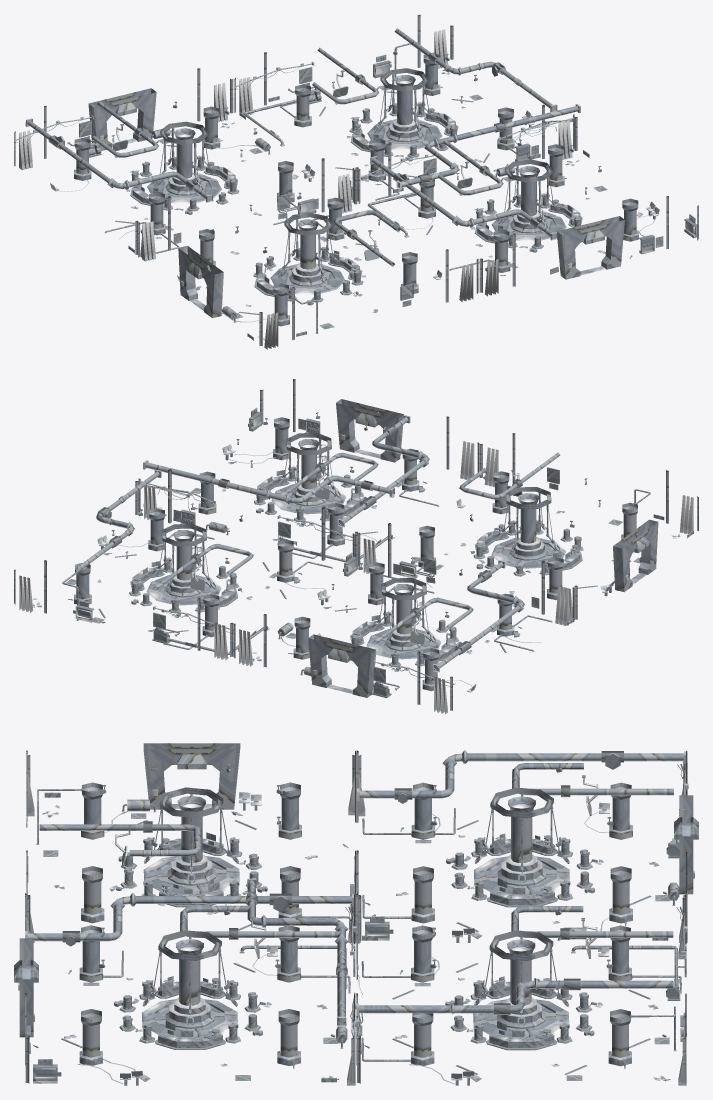
File: Combined_Mesh_root_scene__9_f65a131e__ZombiesII_laboratory_03_d_5a0f8016_c1f257_part001.obj
The picture shows the model from 3 angles, top to bottom: view 1: azimuth 30°, elevation 25°; view 2: azimuth 150°, elevation 25°; view 3: azimuth 270°, elevation 25°; orthographic projection. The views are drawn at different scales.
Size of the model in its own units: 83.04 by 10.34 by 83.14.
Materials: 538 (538 with a texture image).
